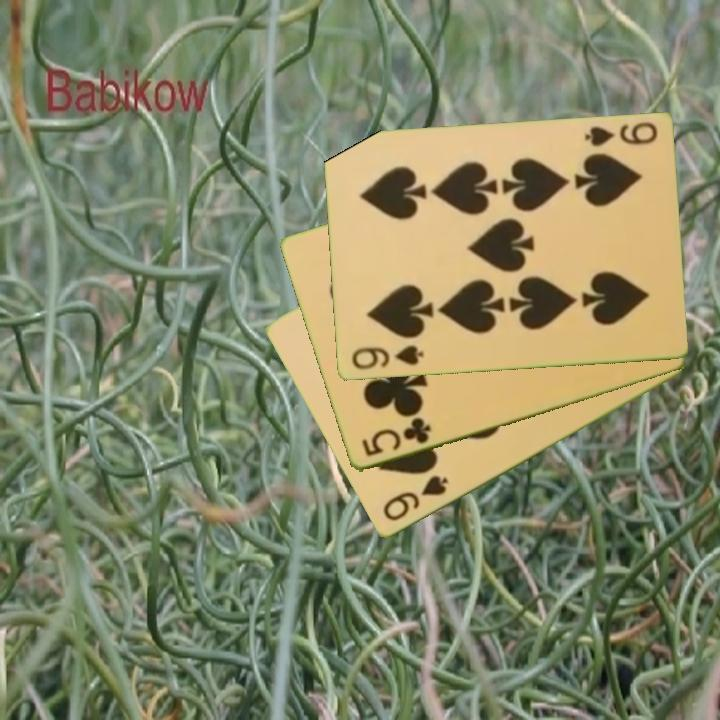5c: (358, 414, 434, 460)
9s: (379, 472, 451, 525), (581, 118, 660, 150), (348, 342, 426, 373)
